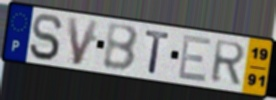B: (102, 23, 141, 73)
E: (176, 34, 214, 84)
R: (209, 39, 248, 87)
S: (27, 12, 64, 63)
T: (144, 29, 173, 76)
V: (65, 15, 101, 68)
